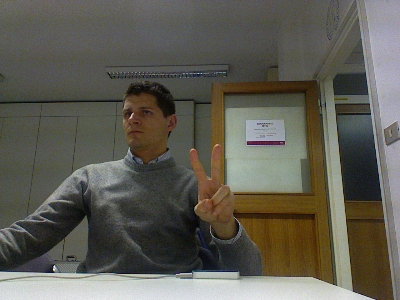剪刀: (188, 143, 235, 224)
